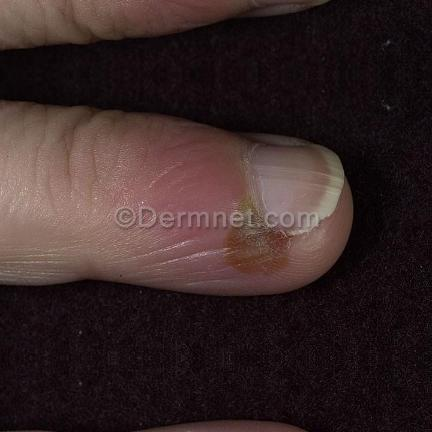Nail: (251, 144, 344, 232), (255, 0, 330, 4)
